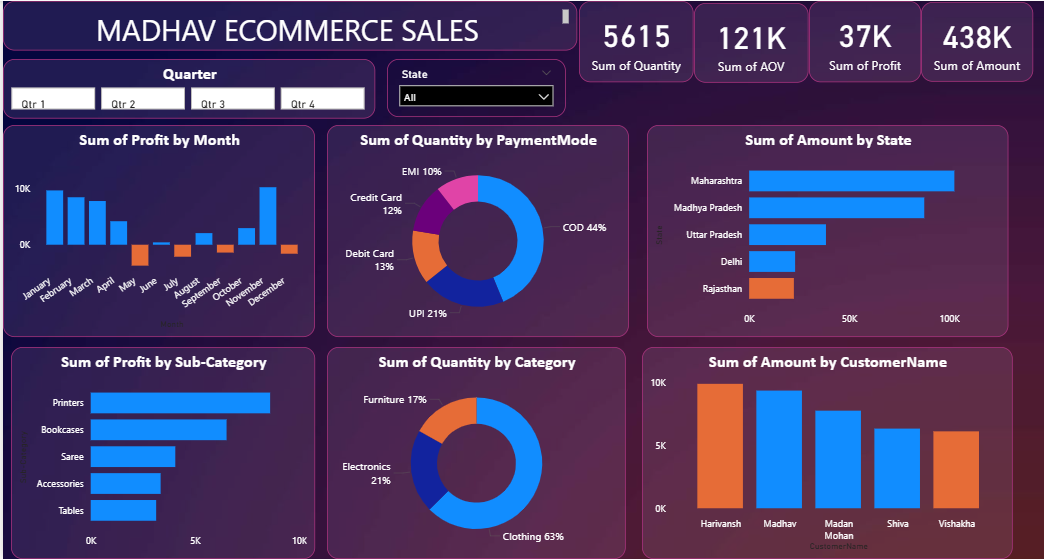

The page's visual inventory and layout, read from the dashboard file:
{"tool":"powerbi","page":{"name":"Page 1","canvas":[1350,721],"ordinal":0},"visuals":[{"type":"textbox","box":[0,0,741.8,63.9],"z":0},{"type":"columnChart","fields":{"Category":["Orders (1).Order Date.Variation.Date Hierarchy.Month"],"Y":["Details.Profit"]},"box":[0,160.4,403.1,273.9],"z":1000},{"type":"barChart","fields":{"Category":["Details.Sub-Category"],"Y":["Details.Profit"]},"box":[10.2,447.1,393.4,274.4],"z":2000},{"type":"donutChart","fields":{"Category":["Details.Category"],"Y":["Details.Quantity"]},"box":[418.1,447.1,386.1,274.4],"z":3000},{"type":"donutChart","fields":{"Y":["Details.Quantity"],"Category":["Details.PaymentMode"]},"box":[418.7,160.4,390.3,273.9],"z":4000},{"type":"card","fields":{"Values":["Details.Amount"]},"box":[1186,1.5,145.2,103.1],"z":5000},{"type":"card","fields":{"Values":["Details.Quantity"]},"box":[744.7,0,148.1,104.5],"z":6000},{"type":"card","fields":{"Values":["Details.Profit"]},"box":[1040.8,0,145.2,104.5],"z":7000},{"type":"card","fields":{"Values":["Details.AOV"]},"box":[892.7,2.9,148.1,103.1],"z":8000},{"type":"barChart","fields":{"Y":["Details.Amount"],"Category":["Orders (1).State"]},"box":[831.8,159.7,467.4,274.4],"z":9000},{"type":"columnChart","fields":{"Category":["Orders (1).CustomerName"],"Y":["Details.Amount"]},"box":[826,447.1,479,274.4],"z":10000},{"type":"advancedSlicerVisual","fields":{"Values":["Orders (1).Order Date.Variation.Date Hierarchy.Quarter"]},"box":[0,75.2,481.1,76.6],"z":11000},{"type":"slicer","fields":{"Values":["Orders (1).State"]},"box":[496.8,75.2,231.3,75.2],"z":12000}]}

Visuals, with their boxes in screenshot pixels (x1, y1, x2, y2), scaled from the page's 1350x721 canvas onto the 1044x559 screenshot:
textbox: pyautogui.locateOnScreen(0, 0, 574, 50)
columnChart - Orders (1).Order Date.Variation.Date Hierarchy.Month x Details.Profit: pyautogui.locateOnScreen(0, 124, 312, 337)
barChart - Details.Sub-Category x Details.Profit: pyautogui.locateOnScreen(8, 347, 312, 558)
donutChart - Details.Category x Details.Quantity: pyautogui.locateOnScreen(323, 347, 622, 558)
donutChart - Details.Quantity x Details.PaymentMode: pyautogui.locateOnScreen(324, 124, 626, 337)
card - Details.Amount: pyautogui.locateOnScreen(917, 1, 1029, 81)
card - Details.Quantity: pyautogui.locateOnScreen(576, 0, 690, 81)
card - Details.Profit: pyautogui.locateOnScreen(805, 0, 917, 81)
card - Details.AOV: pyautogui.locateOnScreen(690, 2, 805, 82)
barChart - Details.Amount x Orders (1).State: pyautogui.locateOnScreen(643, 124, 1005, 337)
columnChart - Orders (1).CustomerName x Details.Amount: pyautogui.locateOnScreen(639, 347, 1009, 558)
advancedSlicerVisual - Orders (1).Order Date.Variation.Date Hierarchy.Quarter: pyautogui.locateOnScreen(0, 58, 372, 118)
slicer - Orders (1).State: pyautogui.locateOnScreen(384, 58, 563, 117)
